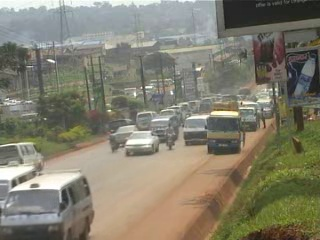Car: (124, 127, 161, 158), (114, 123, 141, 144)
Motorcycle: (162, 124, 176, 151), (106, 129, 118, 154)
